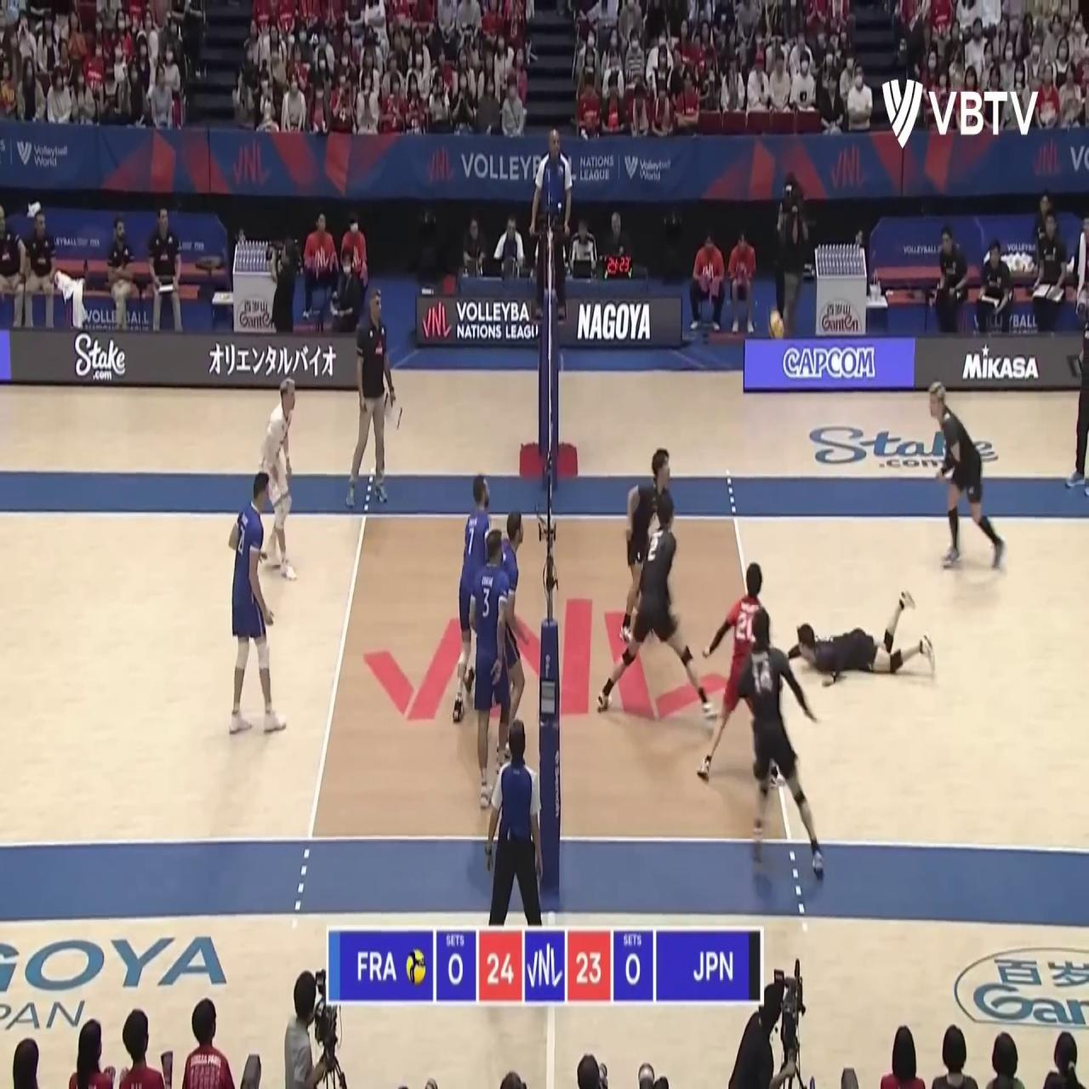ball: (766, 310, 784, 342)
